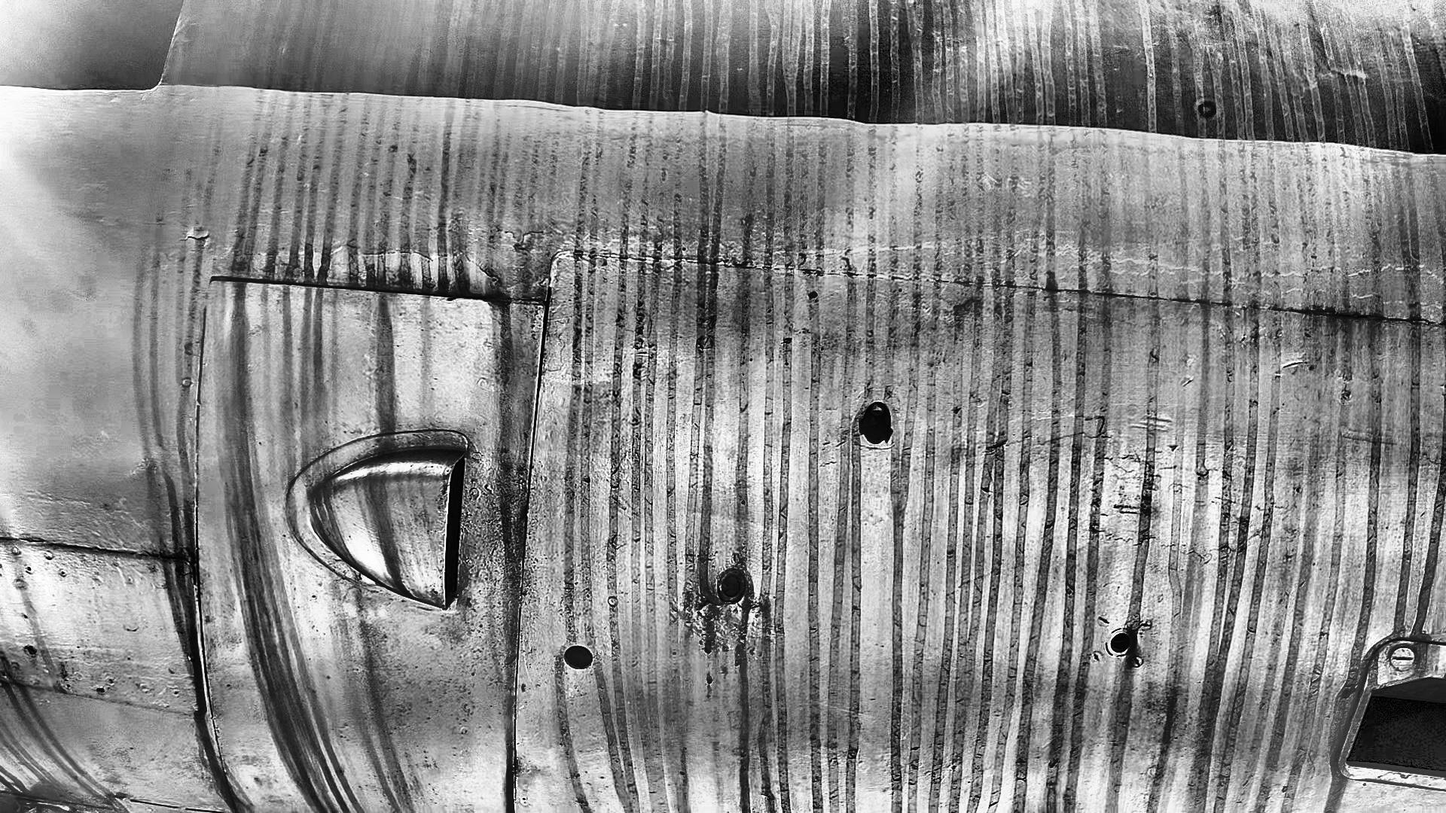crack: (355, 245, 500, 283), (187, 232, 214, 244)
paint-peel-off: (697, 599, 721, 623)
